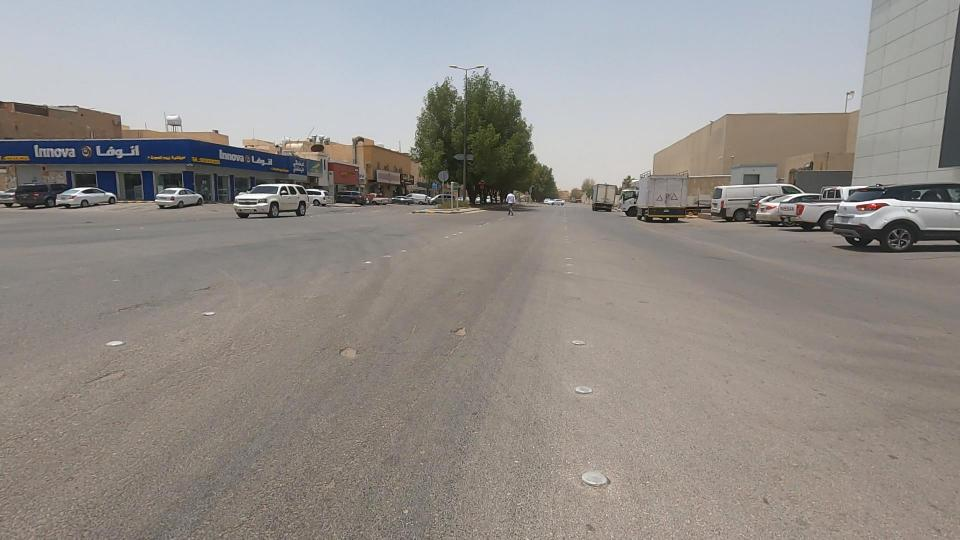POTHOLES: (305, 313, 396, 394), (433, 306, 490, 360)
